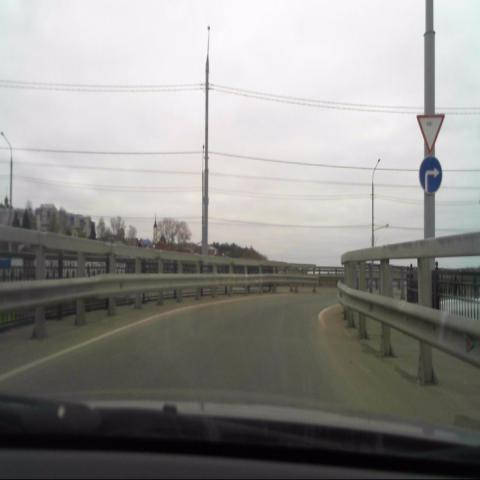4_1_2: (419, 157, 442, 193)
